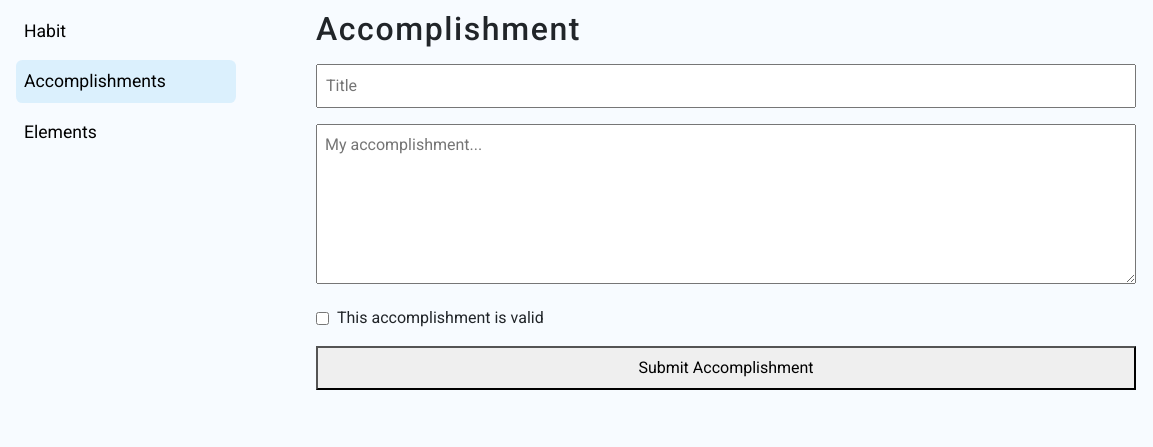
Test: Accomplishments Dashboard › should showcase an error if input field is missing
The width and height of the screenshot is (1153, 447).
Step 1. Type "My basketball accomplishment" into the field with test id "accomplishment-title-input" → (726, 86), box [316,64,1136,108]
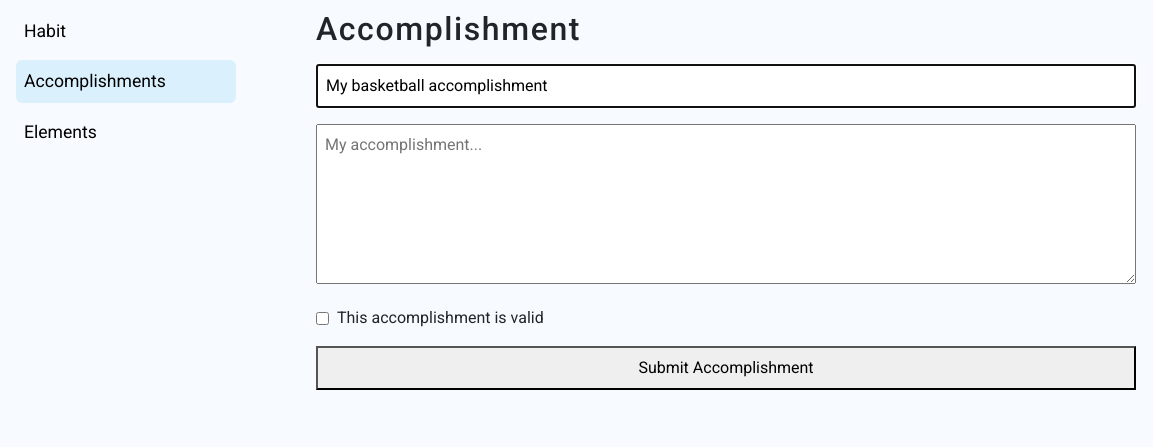
Step 2. Type "I made 3 goals in a row" into the text box with test id "accomplishment-input" → (726, 204), box [316,124,1136,284]
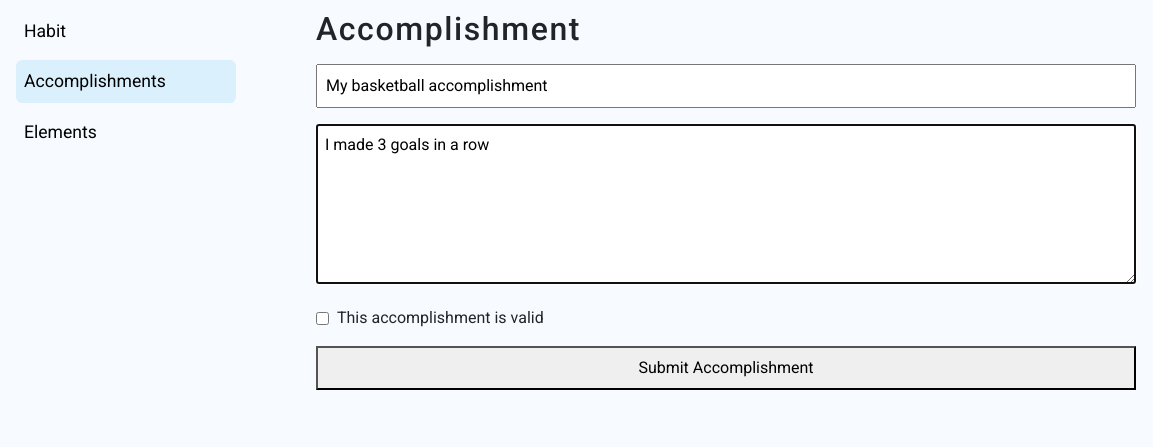
Step 3. Click the button "Submit Accomplishment" → (726, 368), box [316,346,1136,390]
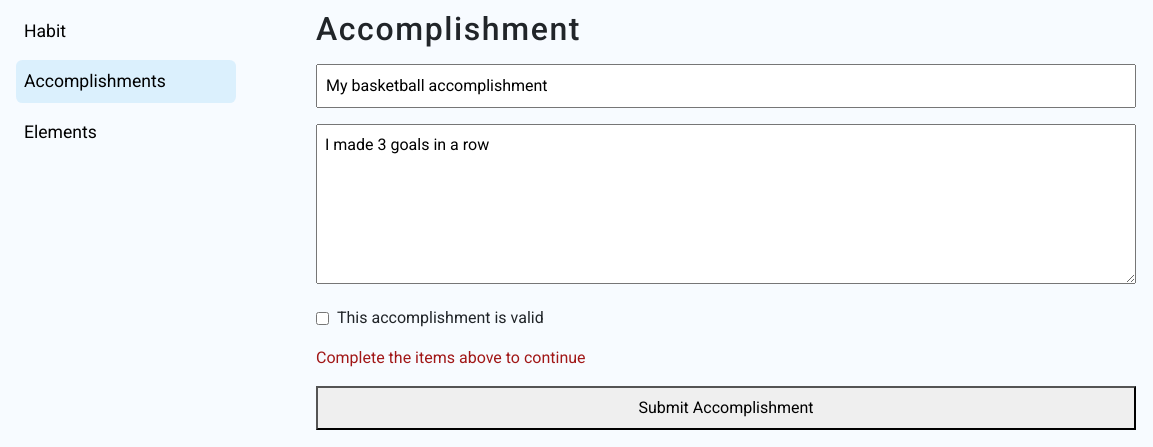
Now the text "Complete the items above to continue" is shown, box [316,348,586,367]
